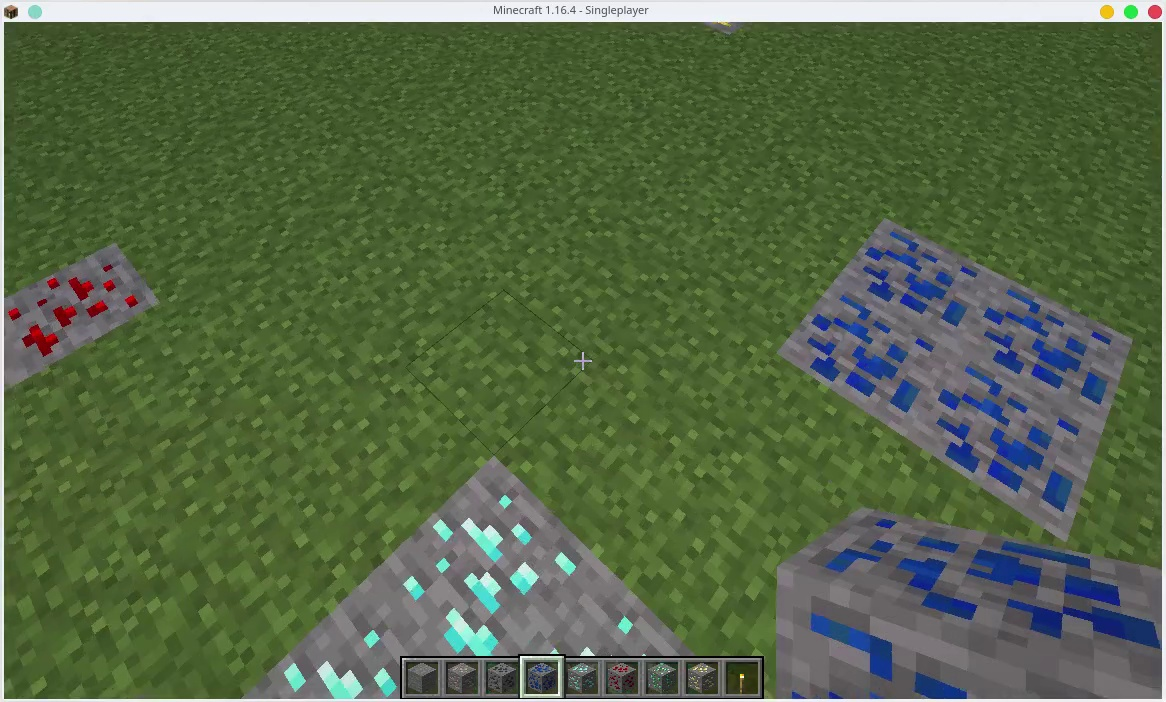gold: (684, 665, 718, 694), (713, 18, 741, 35)
